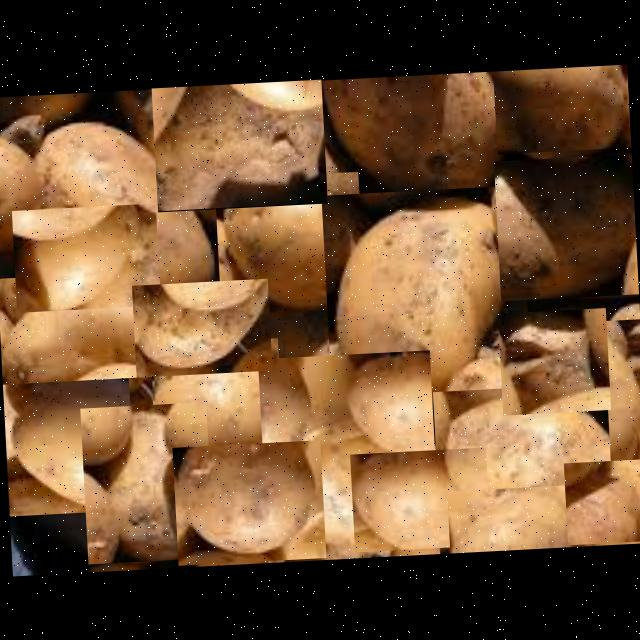Damaged potato: (321, 70, 512, 199), (152, 80, 328, 212), (494, 154, 639, 302), (494, 64, 632, 154), (498, 308, 611, 416)
Diseased-fungal potato: (80, 402, 214, 564), (172, 440, 326, 566), (132, 278, 273, 378)
Potato: (322, 186, 532, 412), (258, 350, 440, 563), (37, 118, 210, 292), (433, 383, 613, 516), (214, 172, 366, 315), (2, 358, 136, 516), (0, 271, 152, 385), (150, 338, 284, 465), (12, 204, 161, 312), (350, 448, 491, 552), (447, 486, 572, 554), (586, 319, 640, 476), (564, 459, 640, 545)
